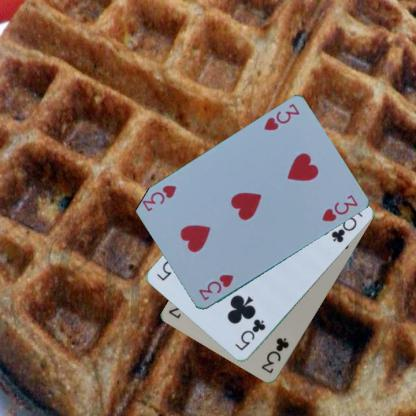3c: (258, 335, 291, 375)
3h: (261, 101, 301, 132), (196, 271, 235, 302)
5c: (232, 316, 267, 352)
